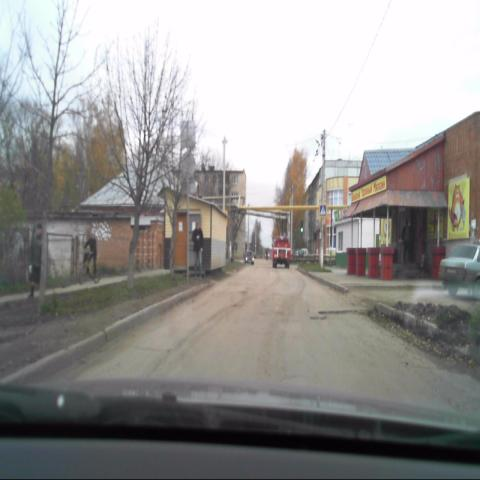5_19_1: (319, 203, 326, 216)
